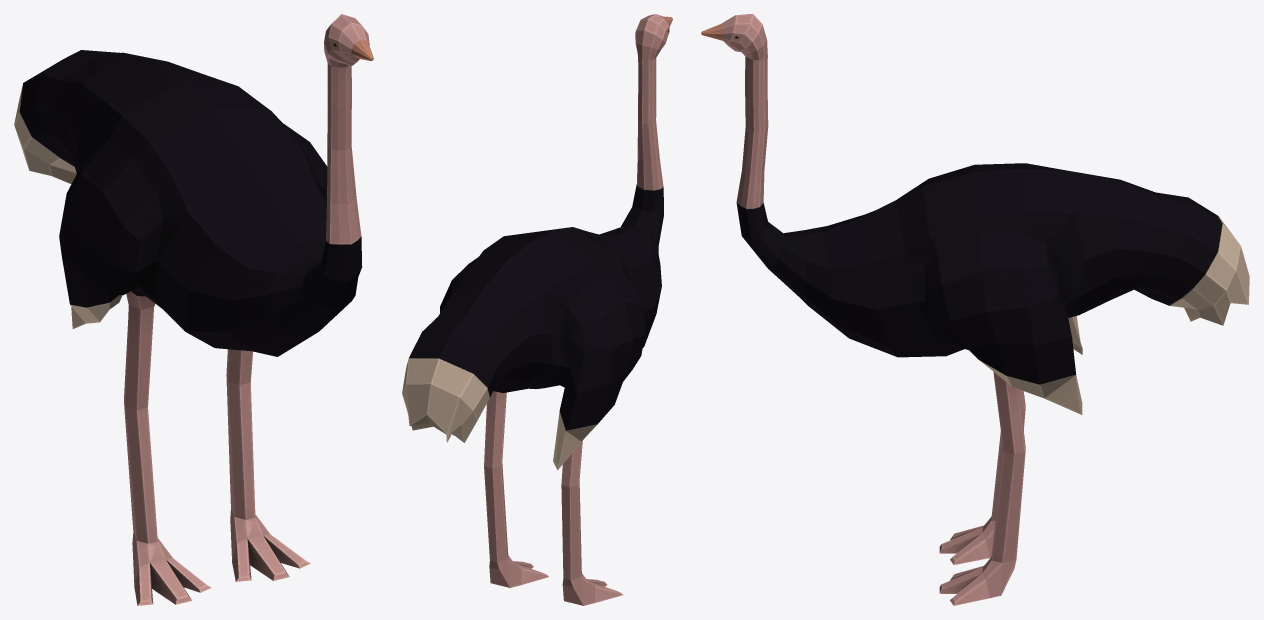
Rendered from prop_pz_ostrich.glb.
The picture shows the model from 3 angles, left to right: view 1: azimuth 30°, elevation 25°; view 2: azimuth 150°, elevation 25°; view 3: azimuth 270°, elevation 25°; orthographic projection. The views are drawn at different scales.
Visible parts, largest first — view 1: Ostrich_mesh; view 2: Ostrich_mesh; view 3: Ostrich_mesh.
Part boxes in pixels (<box>): Ostrich_mesh: <box>14,14,373,605</box>; Ostrich_mesh: <box>402,14,672,605</box>; Ostrich_mesh: <box>701,14,1249,605</box>.
Size of the model in its own units: 4.26 by 11.34 by 10.15.
1 material, 1 textured.
